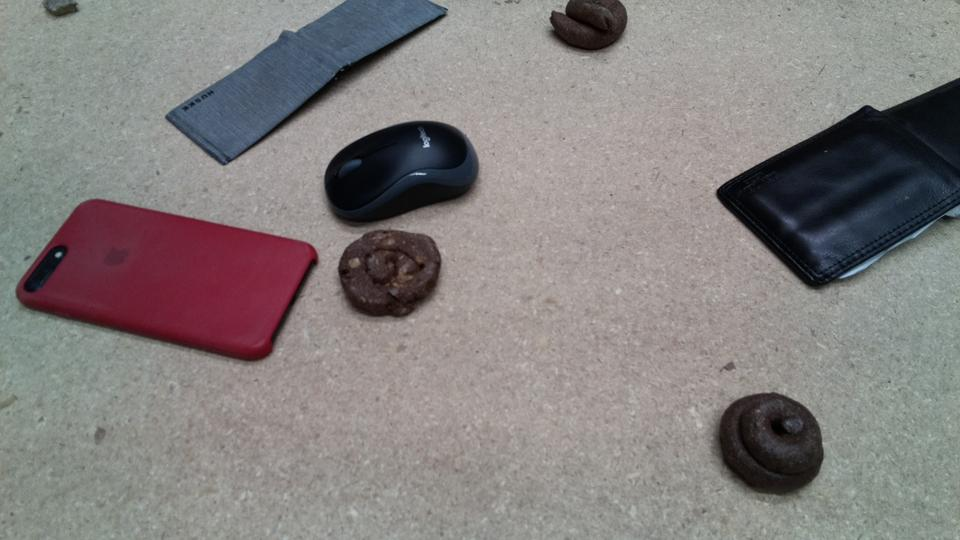poop: (717, 388, 829, 497), (335, 226, 444, 319), (548, 1, 628, 54)
